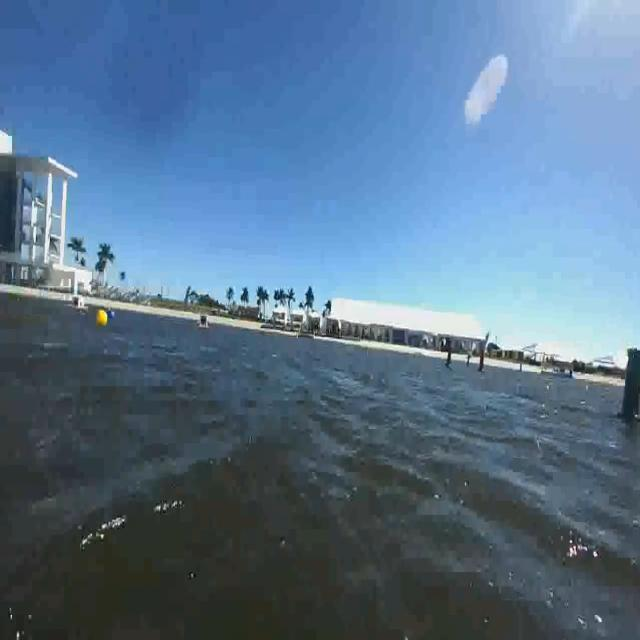green-column-buoy: (618, 346, 640, 423)
yellow-buoy: (97, 308, 109, 328)
